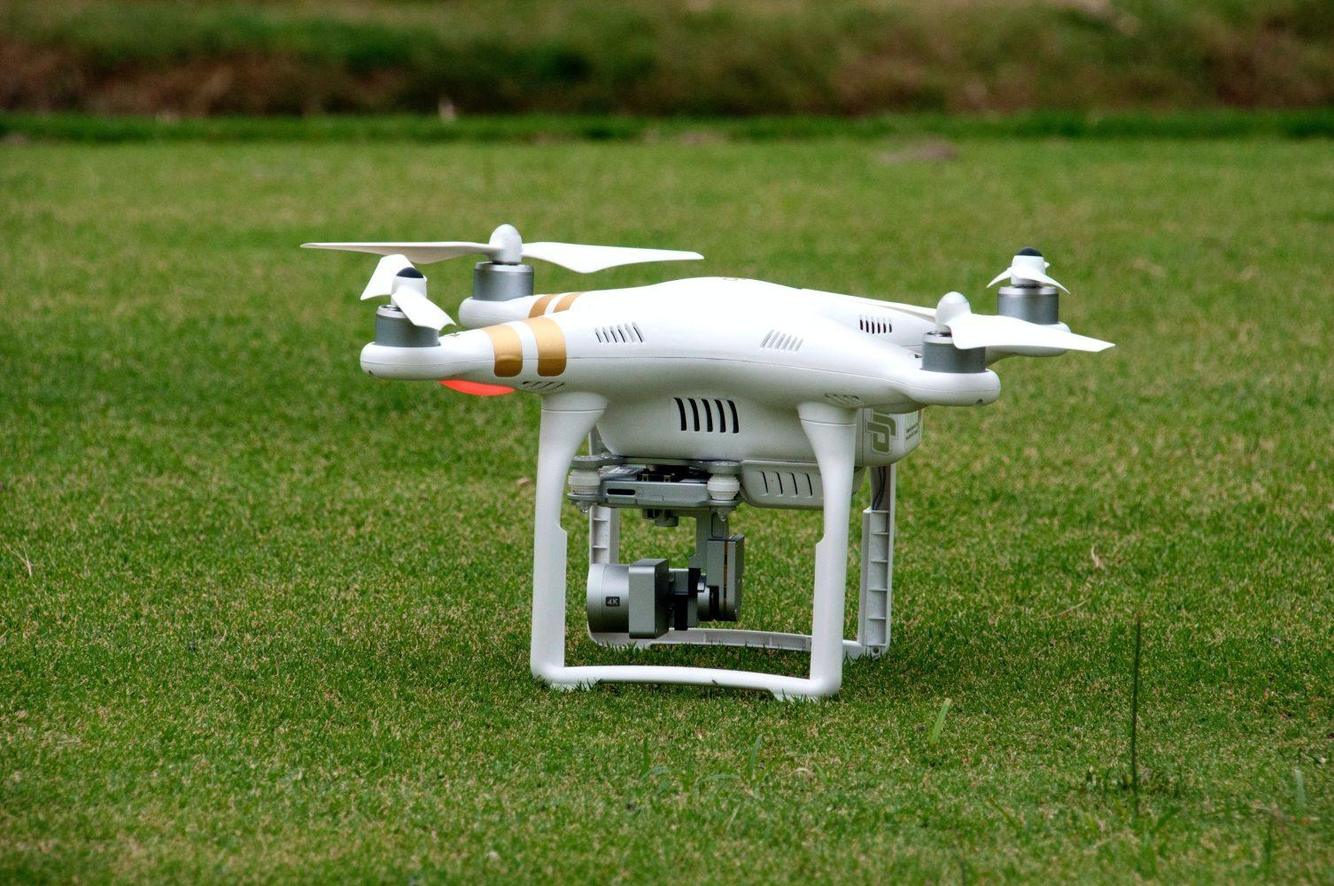aircraft: (326, 226, 1120, 703)
